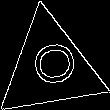O_W: (22, 42, 77, 93)
